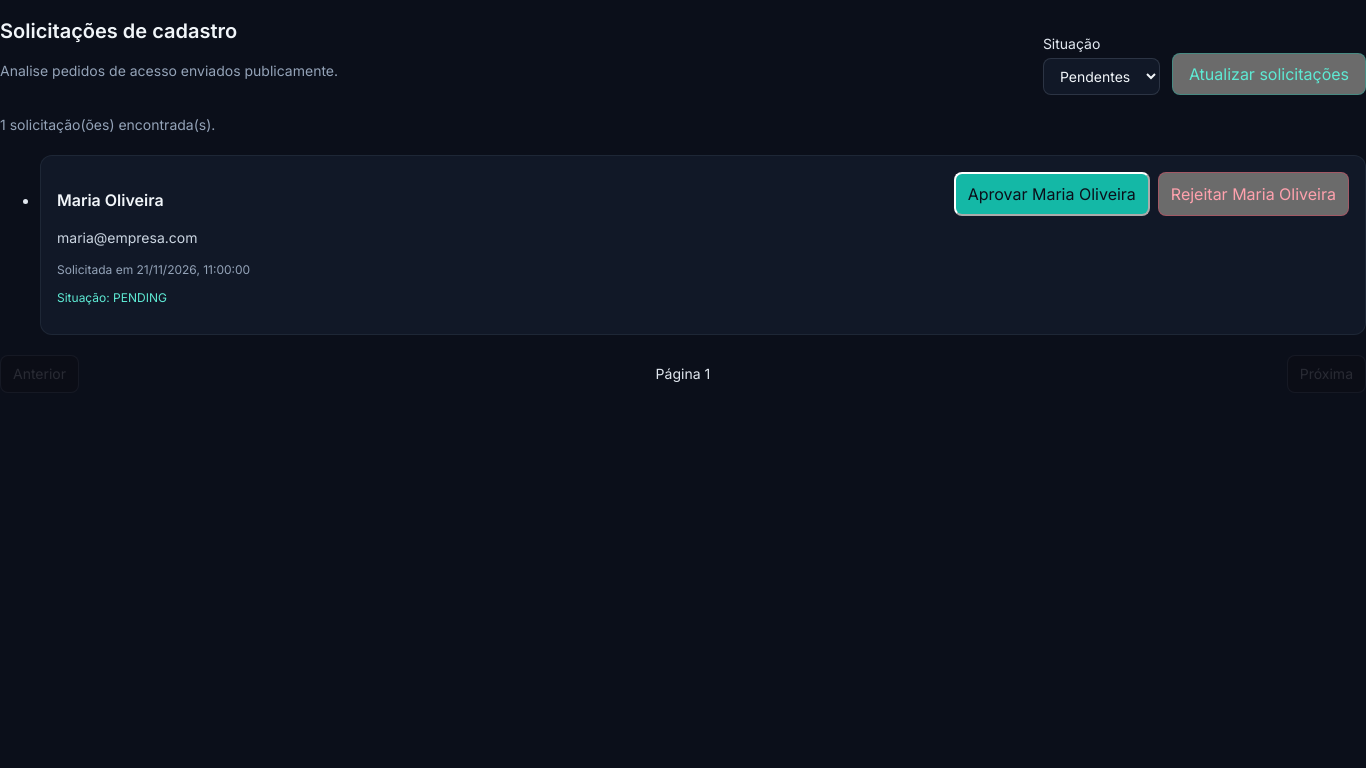
Test case: FE-08: aprova solicitação com senha inicial válida
Click the button "Aprovar Maria Oliveira".
click(1052, 194)  # box [954, 172, 1150, 216]
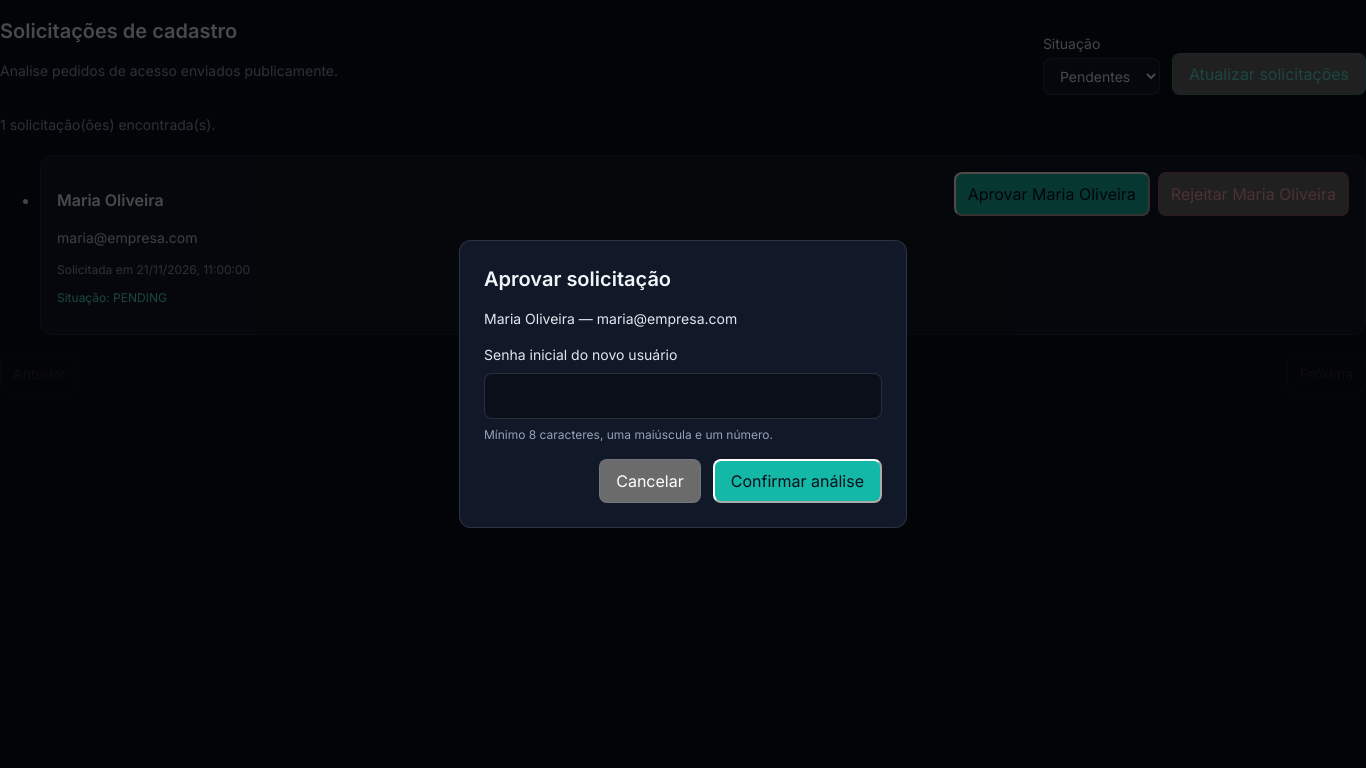
Expected: the dialog "Aprovar solicitação" is shown
Type "SenhaInicial123" into the password field labelled "Senha inicial do novo usuário".
click(683, 396); type("SenhaInicial123")  # box [484, 373, 882, 419]
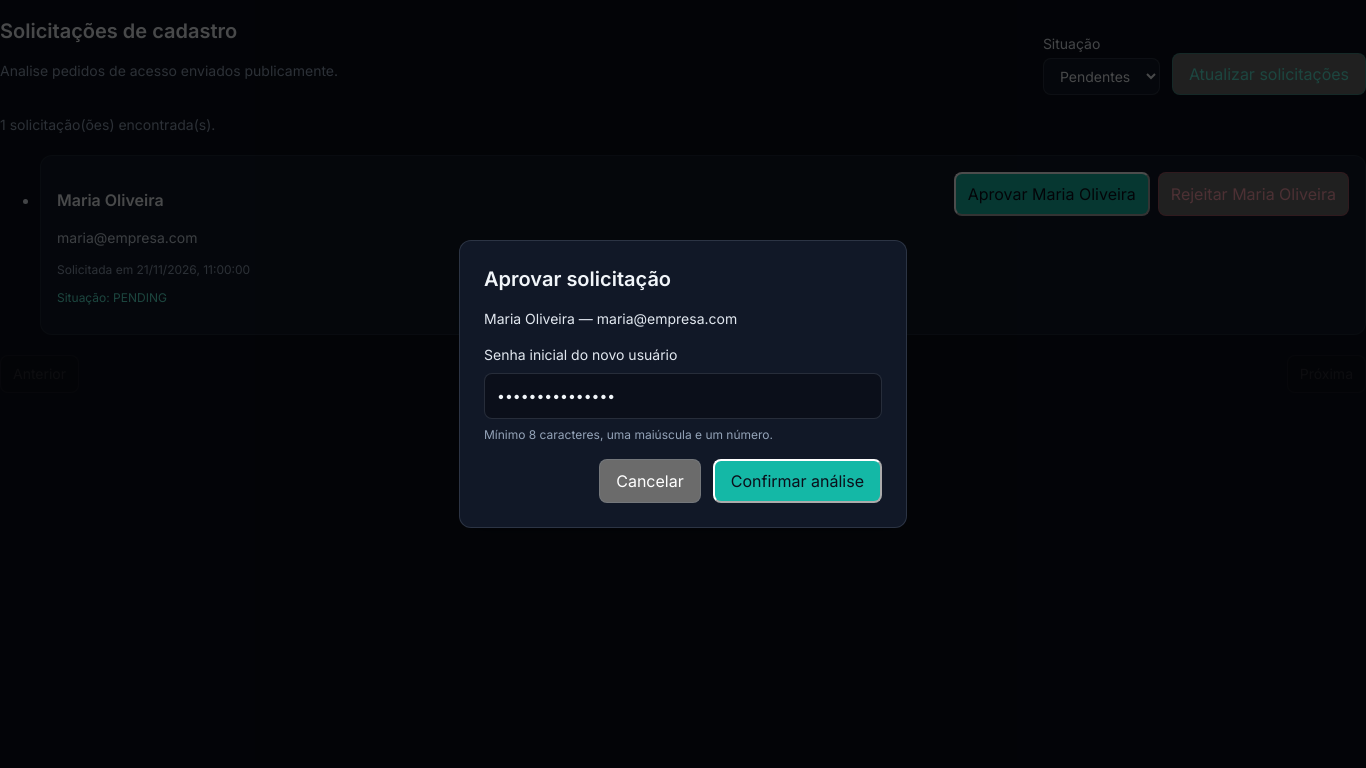
Click the button "Confirmar análise".
click(797, 481)  # box [713, 459, 882, 503]
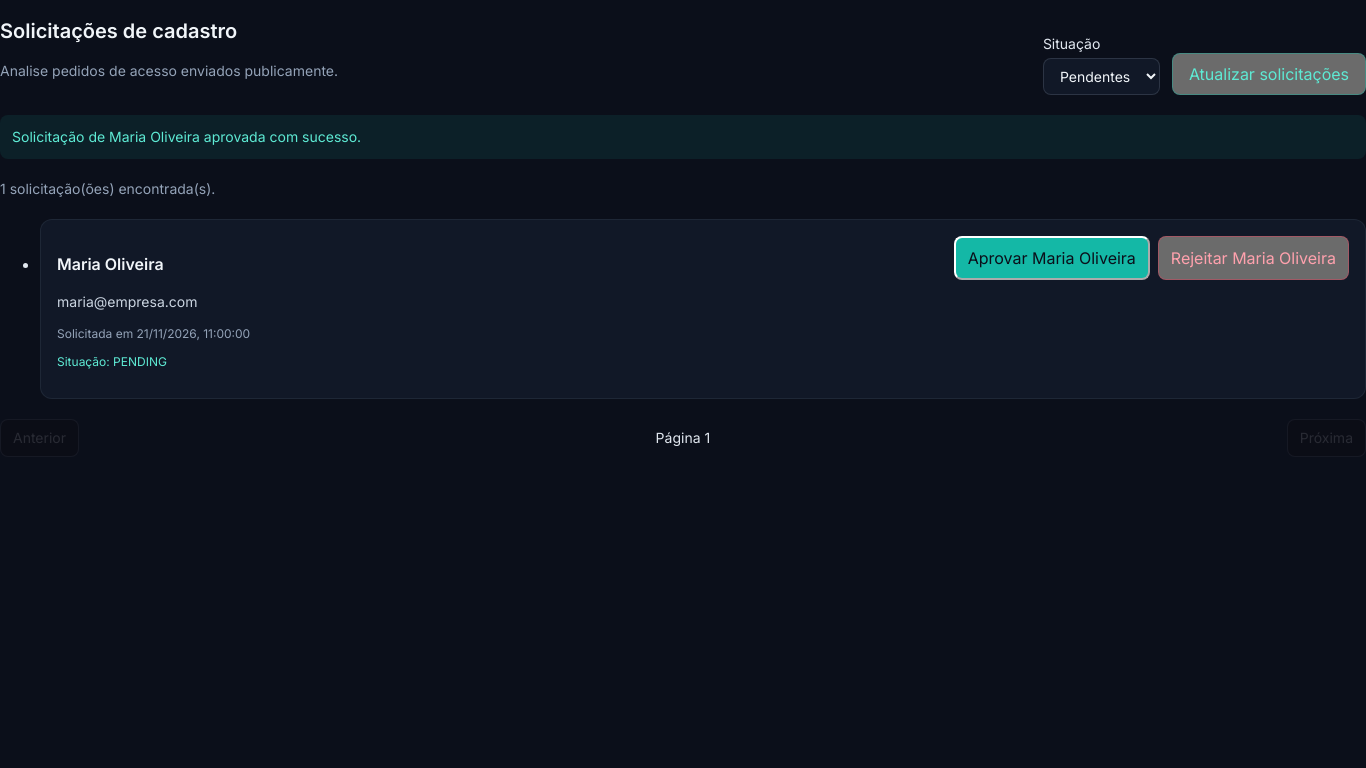
Expected: the text "Solicitação de Maria Oliveira aprovada com sucesso." is shown, [0, 115, 1365, 159]
